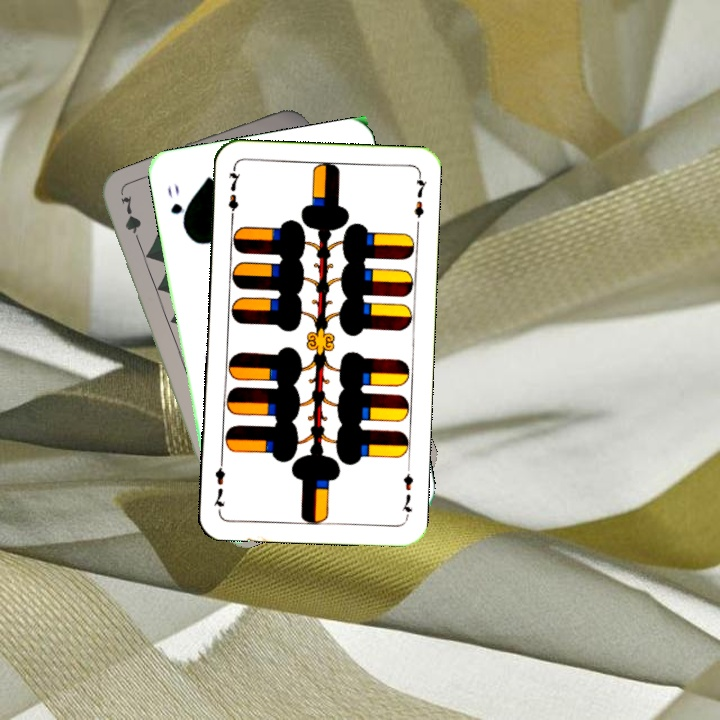E7: (224, 165, 243, 224), (397, 469, 415, 521)
G7: (116, 193, 145, 251)
GO: (163, 180, 189, 232)
